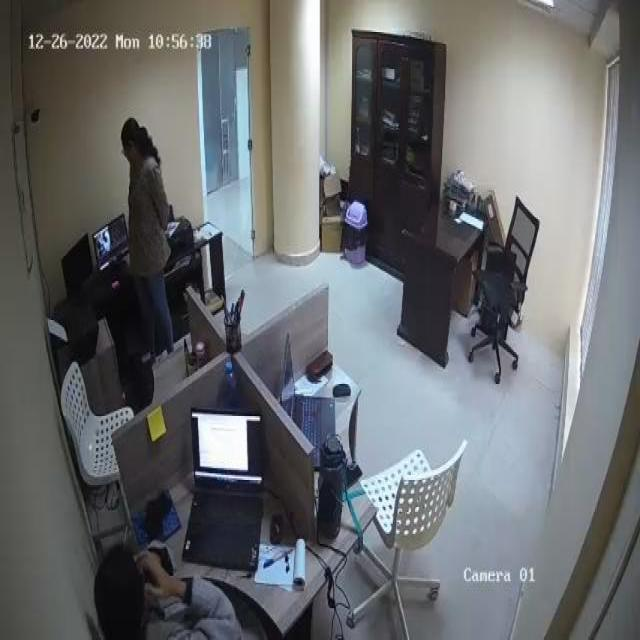bare_hand: (138, 541, 196, 610)
